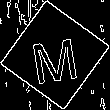M_N: (28, 26, 82, 84)
